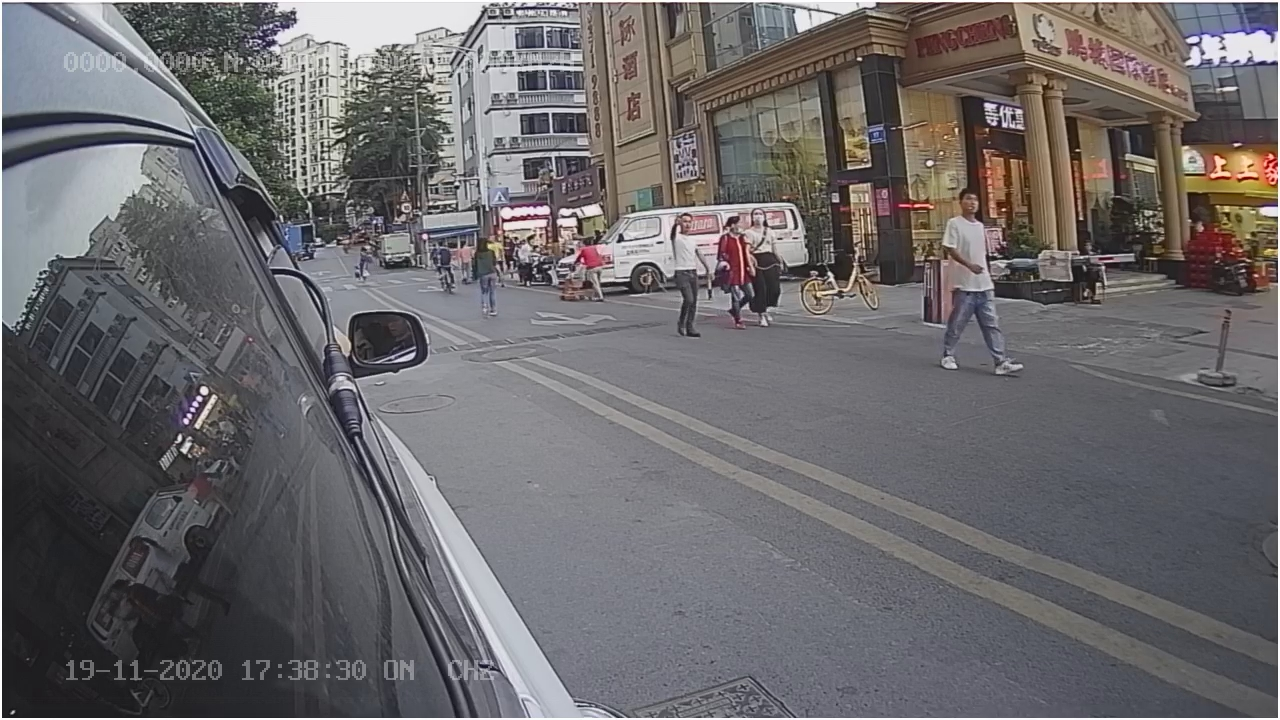person: (932, 183, 1029, 383)
